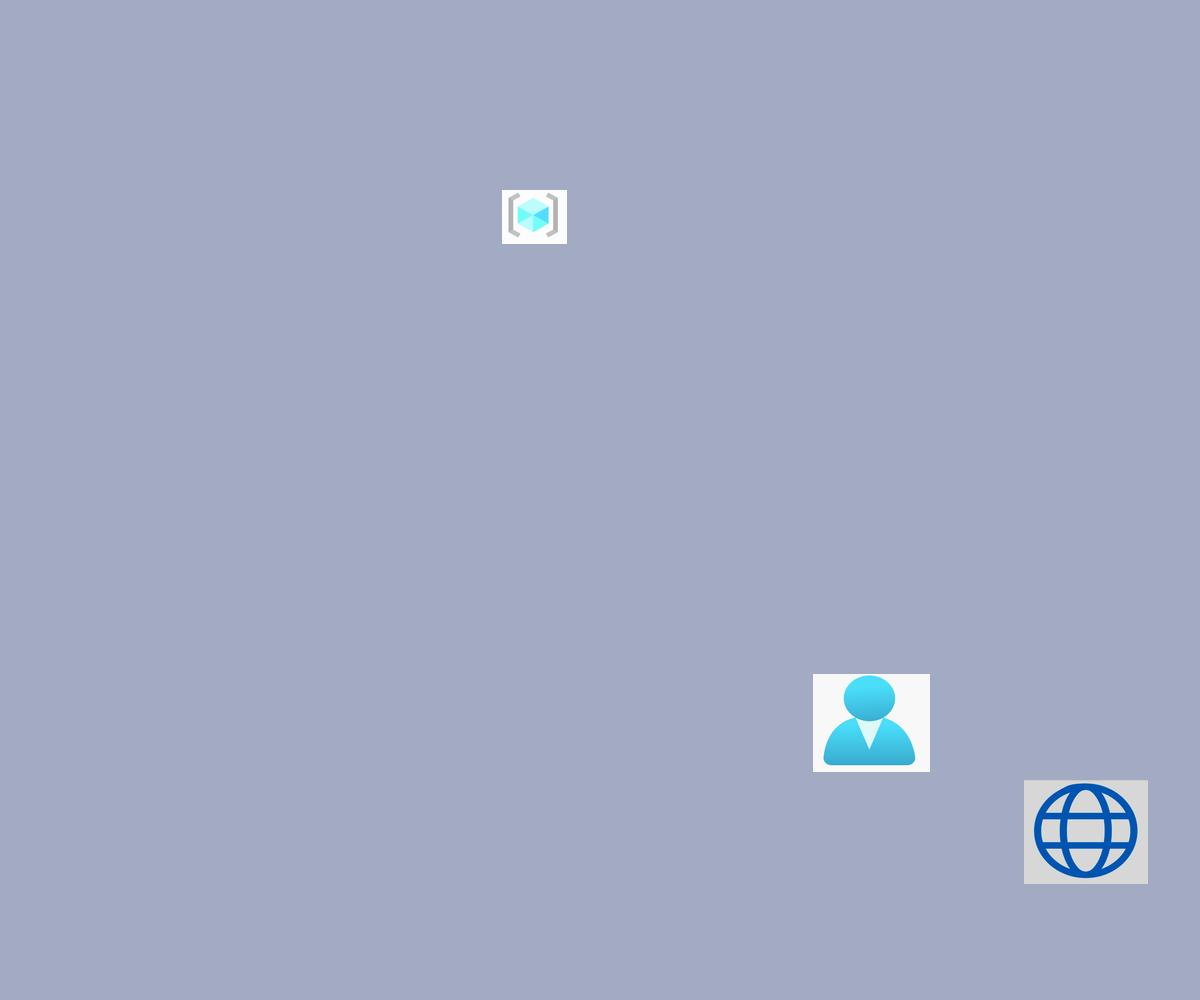Azure_http: (1024, 780, 1148, 884)
Azure_resource_group: (502, 190, 567, 244)
Azure_users: (813, 674, 930, 772)
